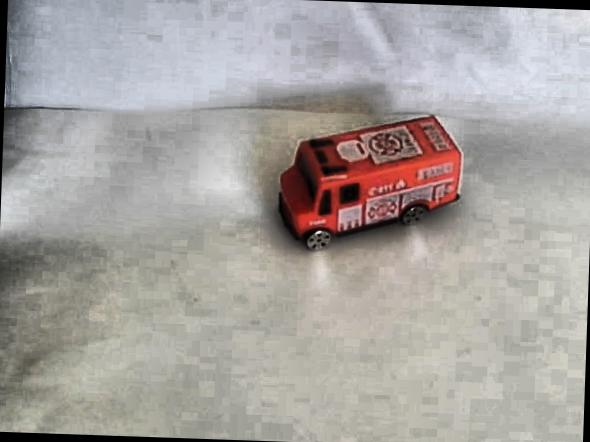fire_truck: (269, 108, 465, 258)
